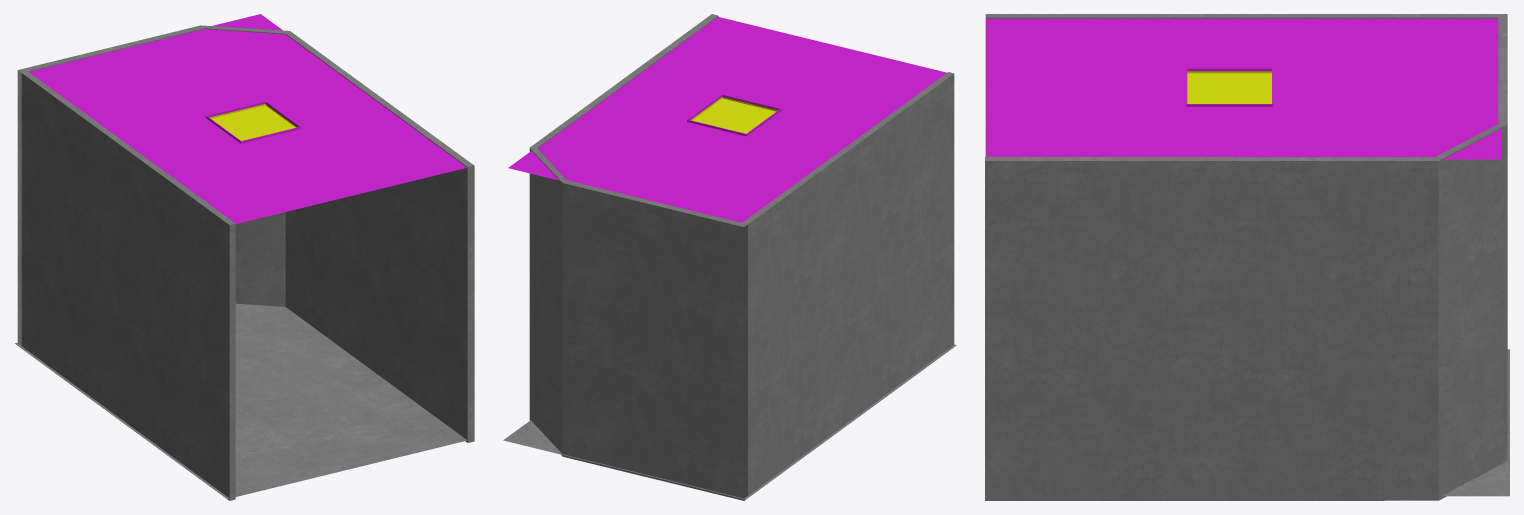
The model's file is CellRoom.FBX.
3 renders of one model, left to right at view 1: azimuth 30°, elevation 25°; view 2: azimuth 150°, elevation 25°; view 3: azimuth 270°, elevation 25°, orthographic. The views are drawn at different scales.
Visible parts, largest first — view 1: Plane007, Plane008; view 2: Plane007, Plane008; view 3: Plane007, Plane008.
Part boxes in pixels (box(x1,y1,x2,y2)): Plane007: box(15, 25, 474, 500); Plane008: box(29, 14, 466, 223); Plane007: box(503, 14, 956, 500); Plane008: box(508, 17, 946, 222); Plane007: box(985, 14, 1509, 500); Plane008: box(986, 18, 1501, 159).
Bounding box in the file's own units: 80.79 × 86.57 × 121.
